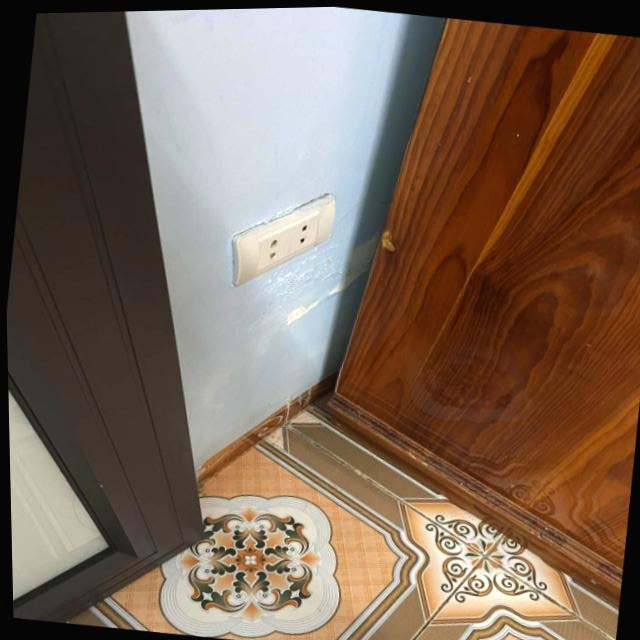outlet: (226, 180, 341, 298)
